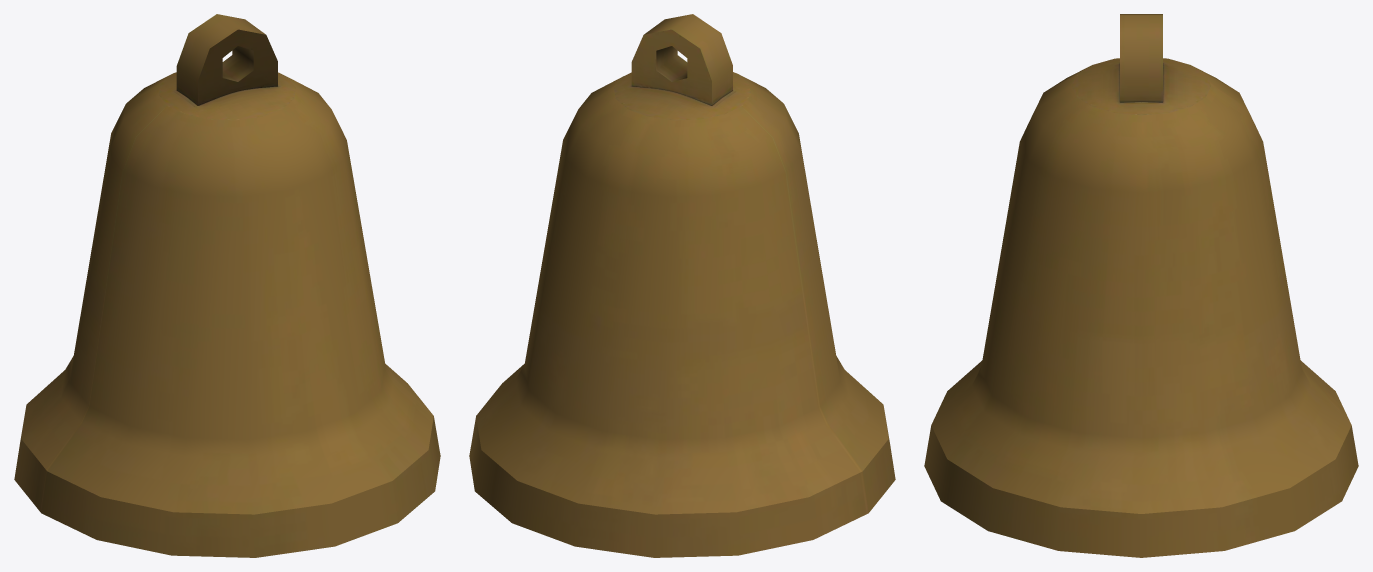
3 renders of one model, left to right at view 1: azimuth 30°, elevation 25°; view 2: azimuth 150°, elevation 25°; view 3: azimuth 270°, elevation 25°, orthographic.
Parts seen in each view (by area): view 1: body0_model0_lod0_mesh0; view 2: body0_model0_lod0_mesh0; view 3: body0_model0_lod0_mesh0.
Part boxes in pixels (x1,y1,x2,y2): body0_model0_lod0_mesh0: (14, 14, 440, 557); body0_model0_lod0_mesh0: (469, 14, 895, 557); body0_model0_lod0_mesh0: (924, 14, 1358, 557).
Bounding box in the file's own units: 98.15 × 112 × 98.15.
Materials: 1 (1 with a texture image).
